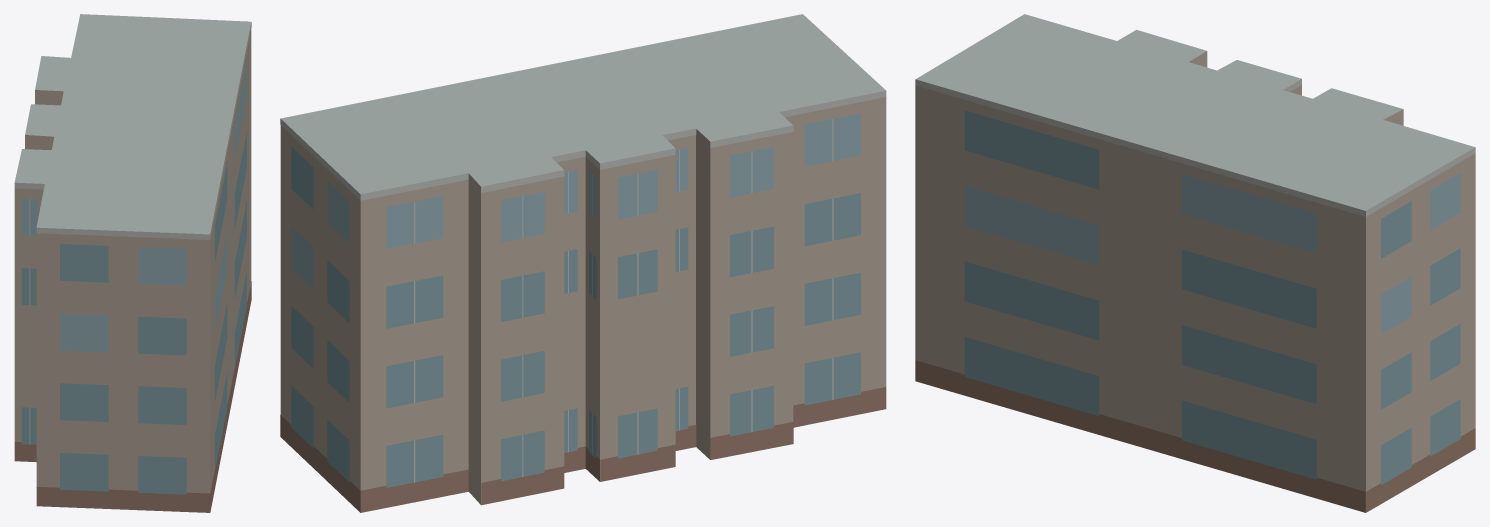
The model's file is survey-upis-32807961.glb.
The picture shows the model from 3 angles, left to right: view 1: azimuth 30°, elevation 25°; view 2: azimuth 150°, elevation 25°; view 3: azimuth 270°, elevation 25°; orthographic projection. The views are drawn at different scales.
Visible parts, largest first — view 1: survey-upis-32807961.tmp; view 2: survey-upis-32807961.tmp; view 3: survey-upis-32807961.tmp.
Boxes of the visible parts, <box> form: survey-upis-32807961.tmp: <box>14,14,251,512</box>; survey-upis-32807961.tmp: <box>280,14,886,512</box>; survey-upis-32807961.tmp: <box>915,14,1475,512</box>.
Size of the model in its own units: 17.08 by 12.2 by 20.52.
